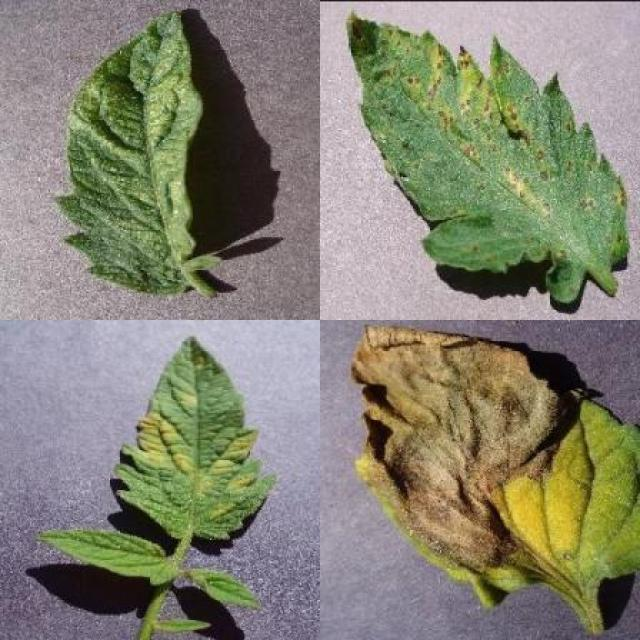Healthy: (40, 527, 169, 583)
Late Blight: (350, 319, 640, 606)
Leaf Mold: (112, 332, 278, 541)
Septoria: (347, 11, 633, 303)
Spider Mites: (55, 10, 222, 297)
